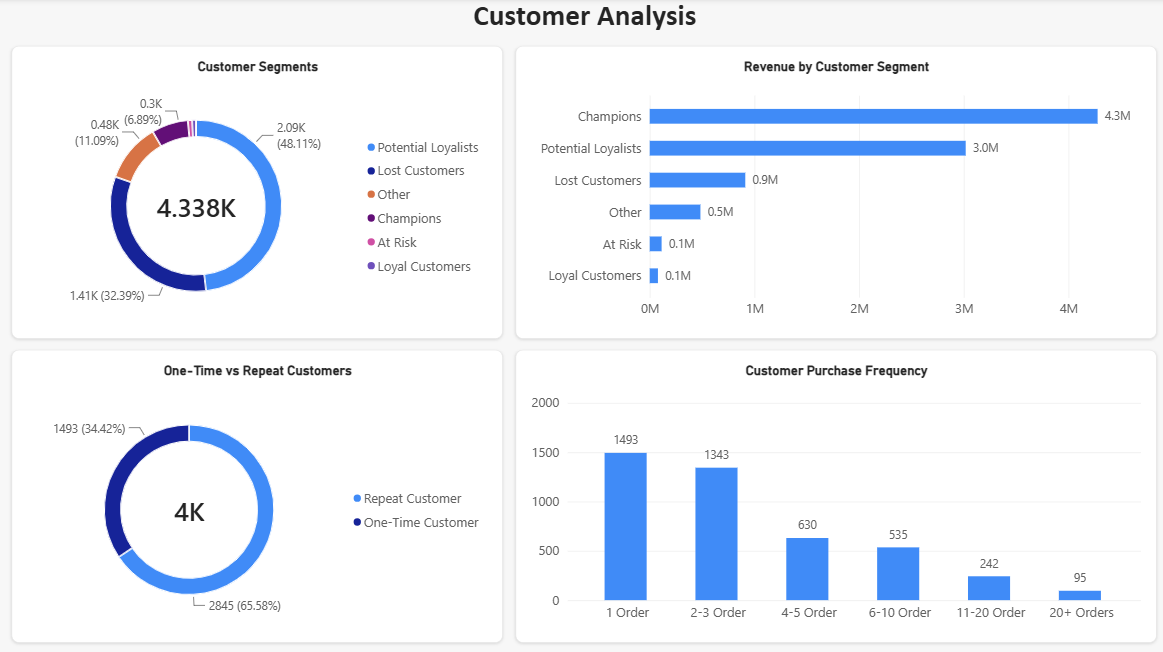

The dashboard page shown, as its layout file describes it:
{"tool":"powerbi","page":{"name":"Customer Analysis","canvas":[1280,720],"ordinal":1},"visuals":[{"type":"donutChart","title":"Customer Segments","fields":{"Category":["CustomerRFM.Customer Segment"],"Y":["CountNonNull(CustomerRFM.CustomerID)"]},"box":[13.8,53.3,536.8,320],"z":0},{"type":"clusteredBarChart","title":"Revenue by Customer Segment","fields":{"Category":["CustomerRFM.Customer Segment"],"Y":["CustomerRFM.Segment Revenue"]},"box":[564.3,53.3,700.3,320],"z":1000},{"type":"donutChart","title":"One-Time vs Repeat Customers","fields":{"Category":["CustomerRFM.Customer Type"],"Y":["CustomerRFM.Customer Type Count"]},"box":[13.8,385.4,536.8,320],"z":2000},{"type":"clusteredColumnChart","title":"Customer Purchase Frequency ","fields":{"Category":["CustomerRFM.Purchase Frequency Group"],"Y":["CustomerRFM.Customer Type Count"]},"box":[564.3,385.4,700.3,320],"z":3000},{"type":"textbox","box":[509.3,0,261.5,53.3],"z":3001}]}

Visuals, with their boxes in screenshot pixels (x1, y1, x2, y2), scaled from the page's 1280x720 canvas onto the 1163x652 screenshot:
"Customer Segments" donutChart: pyautogui.locateOnScreen(13, 48, 500, 338)
"Revenue by Customer Segment" clusteredBarChart: pyautogui.locateOnScreen(513, 48, 1149, 338)
"One-Time vs Repeat Customers" donutChart: pyautogui.locateOnScreen(13, 349, 500, 639)
"Customer Purchase Frequency " clusteredColumnChart: pyautogui.locateOnScreen(513, 349, 1149, 639)
textbox: pyautogui.locateOnScreen(463, 0, 700, 48)
